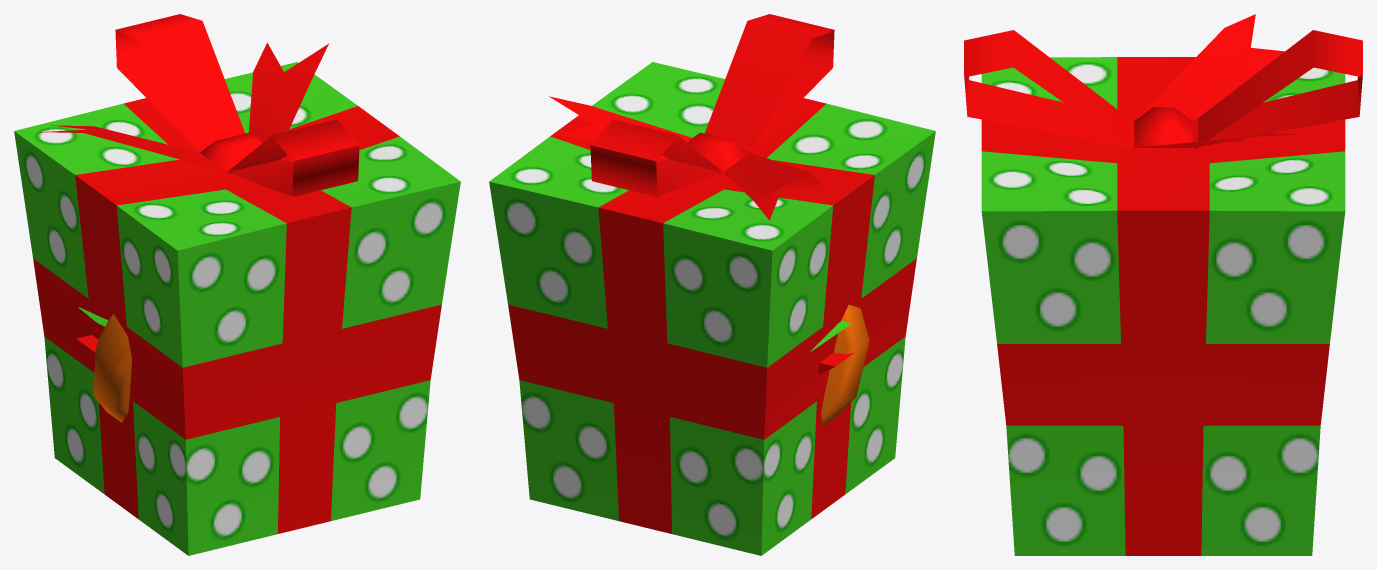
Rendered from present_ALL_FBX.fbx.
3 renders of one model, left to right at view 1: azimuth 30°, elevation 25°; view 2: azimuth 150°, elevation 25°; view 3: azimuth 270°, elevation 25°, orthographic. The views are drawn at different scales.
Visible parts, largest first — view 1: present, coin; view 2: present, coin; view 3: present.
Part boxes in pixels (left/top/right/bottom): present: left=14, top=14, right=460, bottom=555; coin: left=93, top=314, right=131, bottom=422; present: left=489, top=14, right=935, bottom=555; coin: left=821, top=304, right=869, bottom=426; present: left=964, top=14, right=1362, bottom=555.
Size of what is drawn, in the model's own units: 348 by 465 by 363.
